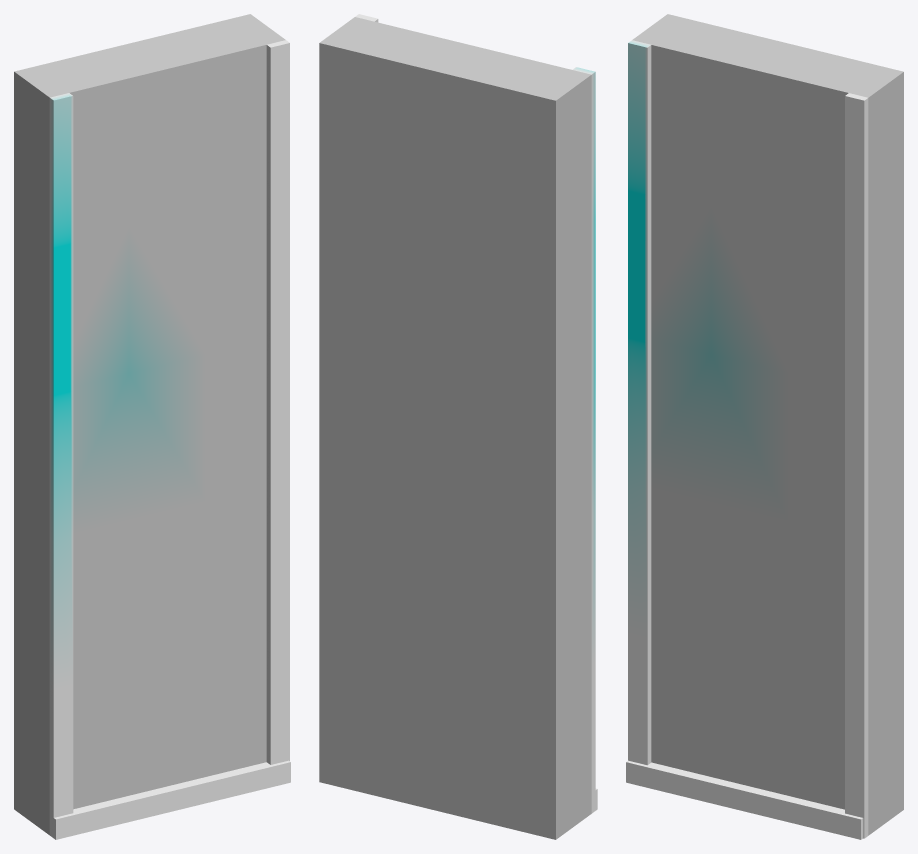
File: SM_Throne_Exterior_Wall_01.fbx
3 views of the same model, side by side, from view 1: azimuth 30°, elevation 25°; view 2: azimuth 150°, elevation 25°; view 3: azimuth 330°, elevation 25° (orthographic).
Parts seen in each view (by area): view 1: SM_Throne_Exterior_Wall_01; view 2: SM_Throne_Exterior_Wall_01; view 3: SM_Throne_Exterior_Wall_01.
Boxes of the visible parts, x1,y1,x2,y2 form: SM_Throne_Exterior_Wall_01: (14,14,290,839); SM_Throne_Exterior_Wall_01: (319,14,597,839); SM_Throne_Exterior_Wall_01: (626,14,903,839).
Size of the model in its own units: 3.86 by 11.52 by 1.18.
